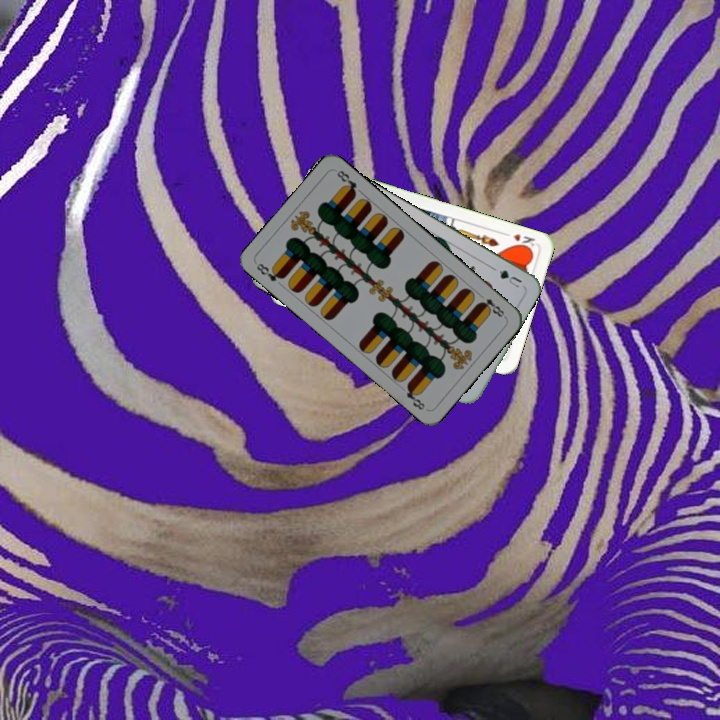E8: (252, 259, 287, 284), (475, 294, 508, 320)
GU: (495, 266, 525, 290)
HK: (499, 228, 537, 252)
